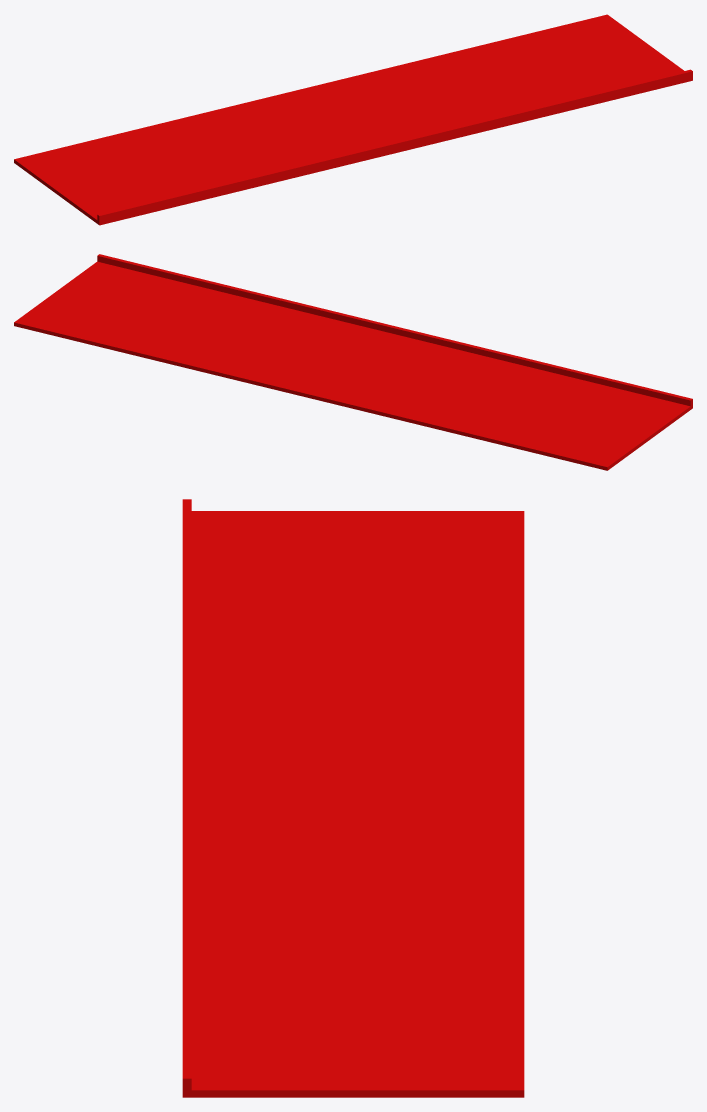
File: Mdl_Vagon_piso_aereo.fbx
3 renders of one model, top to bottom at view 1: azimuth 30°, elevation 25°; view 2: azimuth 150°, elevation 25°; view 3: azimuth 270°, elevation 25°, orthographic. The views are drawn at different scales.
Parts seen in each view (by area): view 1: Mdl_Vagon_piso_aereo; view 2: Mdl_Vagon_piso_aereo; view 3: Mdl_Vagon_piso_aereo.
Part boxes in pixels (x1=…): Mdl_Vagon_piso_aereo: x1=14, y1=14, x2=692, y2=225; Mdl_Vagon_piso_aereo: x1=14, y1=254, x2=692, y2=470; Mdl_Vagon_piso_aereo: x1=182, y1=499, x2=524, y2=1097.
Bounding box in the file's own units: 53.73 × 0.8152 × 13.4.
